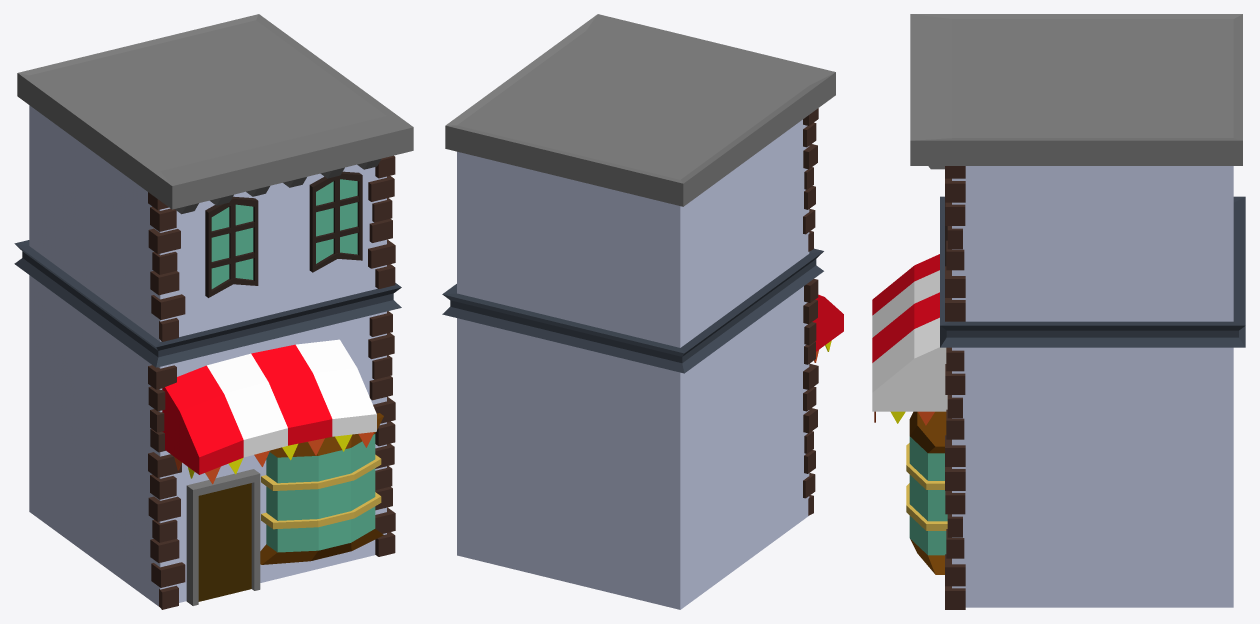
File: PredioGenerico1BrancoLOD0.fbx
3 renders of one model, left to right at view 1: azimuth 30°, elevation 25°; view 2: azimuth 150°, elevation 25°; view 3: azimuth 270°, elevation 25°, orthographic. The views are drawn at different scales.
Parts seen in each view (by area): view 1: LojaGenerica1LOD0, ToldoLOD0, JanelaLOD0; view 2: LojaGenerica1LOD0, ToldoLOD0; view 3: LojaGenerica1LOD0, ToldoLOD0, JanelaLOD0.
Part boxes in pixels (box(x1,y1,x2,y2)): LojaGenerica1LOD0: box(14, 14, 413, 609); ToldoLOD0: box(162, 339, 376, 474); JanelaLOD0: box(260, 413, 383, 564); LojaGenerica1LOD0: box(442, 14, 835, 609); ToldoLOD0: box(812, 294, 843, 351); LojaGenerica1LOD0: box(874, 14, 1245, 609); ToldoLOD0: box(872, 254, 947, 411); JanelaLOD0: box(906, 411, 947, 574).
Bounding box in the file's own units: 411 × 699 × 502.
Materials: 1 (1 with a texture image).
